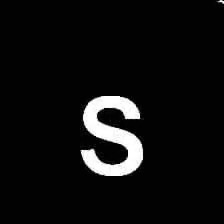LTR_S: (77, 89, 145, 180)
